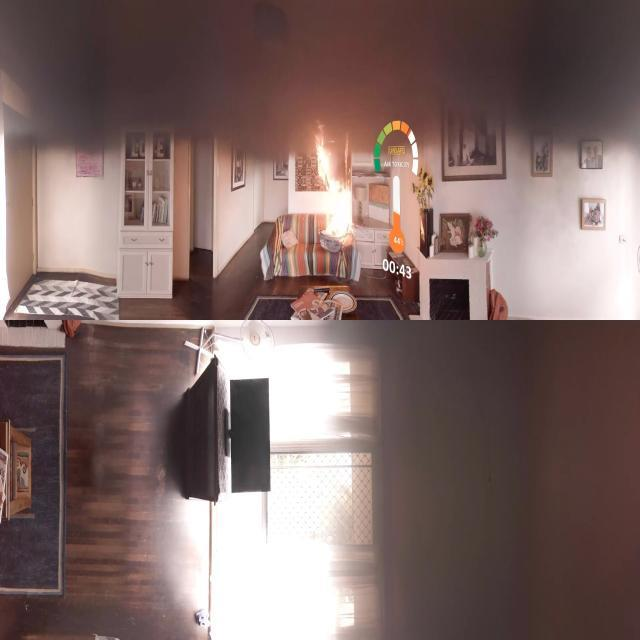Fire: (284, 103, 382, 300)
